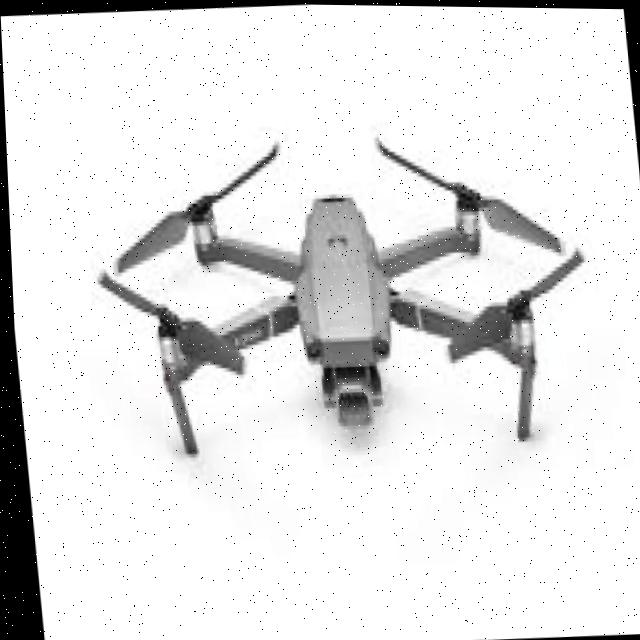drones: (58, 103, 640, 527)
